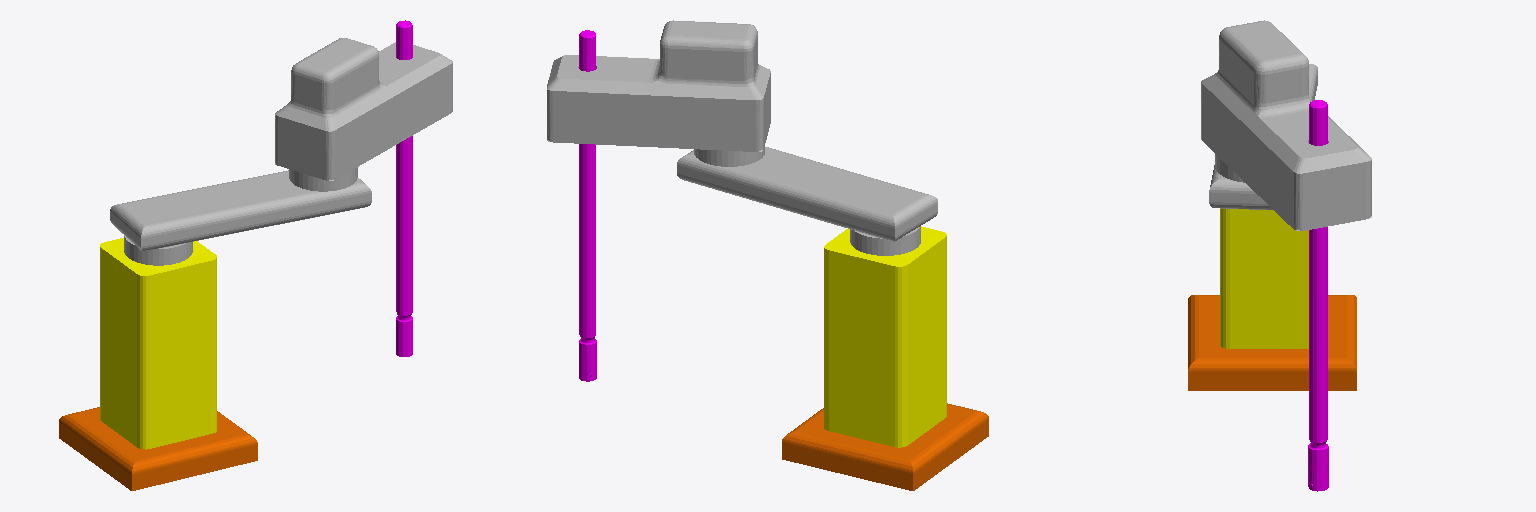
URDF robot description (scara_urdf):
<?xml version="1.0" encoding="utf-8"?>
<!-- This URDF was automatically created by SolidWorks to URDF Exporter! Originally created by [author] ([email redacted]) 
     Commit Version: 1.6.0-4-g7f85cfe  Build Version: 1.6.7995.38578
     For more information, please see http://wiki.ros.org/sw_urdf_exporter -->
<robot
  name="scara_urdf">
  <link
    name="base">
    <inertial>
      <origin
        xyz="1.1102E-16 1.1102E-16 0.016963"
        rpy="0 0 0" />
      <mass
        value="0.81356" />
      <inertia
        ixx="0.0017034"
        ixy="2.3161E-20"
        ixz="-7.2992E-19"
        iyy="0.0017034"
        iyz="1.1526E-18"
        izz="0.0031874" />
    </inertial>
    <visual>
      <origin
        xyz="0 0 0"
        rpy="0 0 0" />
      <geometry>
        <mesh
          filename="package://scara_urdf/meshes/base.STL" />
      </geometry>
      <material
        name="">
        <color
          rgba="0.9098 0.44314 0.031373 1" />
      </material>
    </visual>
    <collision>
      <origin
        xyz="0 0 0"
        rpy="0 0 0" />
      <geometry>
        <mesh
          filename="package://scara_urdf/meshes/base.STL" />
      </geometry>
    </collision>
  </link>
  <link
    name="M1">
    <inertial>
      <origin
        xyz="-1.1102E-16 1.1102E-16 0.075"
        rpy="0 0 0" />
      <mass
        value="1.6696" />
      <inertia
        ixx="0.0077803"
        ixy="-2.0605E-34"
        ixz="2.1121E-34"
        iyy="0.0077803"
        iyz="-5.294E-21"
        izz="0.0032888" />
    </inertial>
    <visual>
      <origin
        xyz="0 0 0"
        rpy="0 0 0" />
      <geometry>
        <mesh
          filename="package://scara_urdf/meshes/M1.STL" />
      </geometry>
      <material
        name="">
        <color
          rgba="1 1 0 1" />
      </material>
    </visual>
    <collision>
      <origin
        xyz="0 0 0"
        rpy="0 0 0" />
      <geometry>
        <mesh
          filename="package://scara_urdf/meshes/M1.STL" />
      </geometry>
    </collision>
  </link>
  <joint
    name="Joint1"
    type="continuous">
    <origin
      xyz="0 0 0.06"
      rpy="0 0 0" />
    <parent
      link="base" />
    <child
      link="M1" />
    <axis
      xyz="0 0 -1" />
  </joint>
  <link
    name="M2">
    <inertial>
      <origin
        xyz="0.081749 -0.0069094 0.030511"
        rpy="0 0 0" />
      <mass
        value="0.71062" />
      <inertia
        ixx="0.00039441"
        ixy="0.00026417"
        ixz="1.5922E-06"
        iyy="0.0034975"
        iyz="-1.3456E-07"
        izz="0.0038467" />
    </inertial>
    <visual>
      <origin
        xyz="0 0 0"
        rpy="0 0 0" />
      <geometry>
        <mesh
          filename="package://scara_urdf/meshes/M2.STL" />
      </geometry>
      <material
        name="">
        <color
          rgba="0.75294 0.75294 0.75294 1" />
      </material>
    </visual>
    <collision>
      <origin
        xyz="0 0 0"
        rpy="0 0 0" />
      <geometry>
        <mesh
          filename="package://scara_urdf/meshes/M2.STL" />
      </geometry>
    </collision>
  </link>
  <joint
    name="Joint2"
    type="continuous">
    <origin
      xyz="0 0 0.18"
      rpy="0 0 0" />
    <parent
      link="M1" />
    <child
      link="M2" />
    <axis
      xyz="0 0 1" />
    <limit
      lower="0"
      upper="0"
      effort="0"
      velocity="0" />
  </joint>
  <link
    name="M3">
    <inertial>
      <origin
        xyz="0.047629 0.020812 0.072612"
        rpy="0 0 0" />
      <mass
        value="0.99972" />
      <inertia
        ixx="0.0017827"
        ixy="-0.001154"
        ixz="0.00043198"
        iyy="0.0039194"
        iyz="0.00018876"
        izz="0.0042708" />
    </inertial>
    <visual>
      <origin
        xyz="0 0 0"
        rpy="0 0 0" />
      <geometry>
        <mesh
          filename="package://scara_urdf/meshes/M3.STL" />
      </geometry>
      <material
        name="">
        <color
          rgba="0.75294 0.75294 0.75294 1" />
      </material>
    </visual>
    <collision>
      <origin
        xyz="0 0 0"
        rpy="0 0 0" />
      <geometry>
        <mesh
          filename="package://scara_urdf/meshes/M3.STL" />
      </geometry>
    </collision>
  </link>
  <joint
    name="Joint3"
    type="continuous">
    <origin
      xyz="0.19929 -0.016844 0.0425"
      rpy="0 0 0" />
    <parent
      link="M2" />
    <child
      link="M3" />
    <axis
      xyz="0 0 -1" />
    <limit
      lower="0"
      upper="0"
      effort="0"
      velocity="0" />
  </joint>
  <link
    name="M4R">
    <inertial>
      <origin
        xyz="1.4784E-10 -1.9373E-10 0.15749"
        rpy="0 0 0" />
      <mass
        value="0.10305" />
      <inertia
        ixx="0.0014027"
        ixy="9.2614E-10"
        ixz="-2.3549E-12"
        iyy="0.0014027"
        iyz="3.0832E-12"
        izz="4.2483E-06" />
    </inertial>
    <visual>
      <origin
        xyz="0 0 0"
        rpy="0 0 0" />
      <geometry>
        <mesh
          filename="package://scara_urdf/meshes/M4R.STL" />
      </geometry>
      <material
        name="">
        <color
          rgba="1 0 1 1" />
      </material>
    </visual>
    <collision>
      <origin
        xyz="0 0 0"
        rpy="0 0 0" />
      <geometry>
        <mesh
          filename="package://scara_urdf/meshes/M4R.STL" />
      </geometry>
    </collision>
  </link>
  <joint
    name="Joint4Rotate"
    type="continuous">
    <origin
      xyz="0.13745 0.060061 0.0925"
      rpy="3.1416 0 0" />
    <parent
      link="M3" />
    <child
      link="M4R" />
    <axis
      xyz="0 0 -1" />
  </joint>
  <link
    name="M4L">
    <inertial>
      <origin
        xyz="1.4784E-10 -1.9373E-10 0.15749"
        rpy="0 0 0" />
      <mass
        value="0.10305" />
      <inertia
        ixx="0.0014027"
        ixy="9.2614E-10"
        ixz="-2.3549E-12"
        iyy="0.0014027"
        iyz="3.0832E-12"
        izz="4.2483E-06" />
    </inertial>
    <visual>
      <origin
        xyz="0 0 0"
        rpy="0 0 0" />
      <geometry>
        <mesh
          filename="package://scara_urdf/meshes/M4L.STL" />
      </geometry>
      <material
        name="">
        <color
          rgba="1 0 1 1" />
      </material>
    </visual>
    <collision>
      <origin
        xyz="0 0 0"
        rpy="0 0 0" />
      <geometry>
        <mesh
          filename="package://scara_urdf/meshes/M4L.STL" />
      </geometry>
    </collision>
  </link>
  <joint
    name="Joint4Linear"
    type="prismatic">
    <origin
      xyz="0.13745 0.060061 0.0925"
      rpy="3.1416 0 0" />
    <parent
      link="M3" />
    <child
      link="M4L" />
    <axis
      xyz="0 0 -1" />
    <limit
      lower="0"
      upper="0"
      effort="0"
      velocity="0" />
  </joint>
</robot>

--- Facts derived from the render (not from the file) ---
The picture shows the robot from 3 angles, left to right: view 1: azimuth 30°, elevation 25°; view 2: azimuth 150°, elevation 25°; view 3: azimuth 270°, elevation 25°; orthographic projection.
Model scara_urdf with 6 links and 5 joints (4 continuous, 1 prismatic), rooted at base, posed all joints at 0.
Visible links, largest first — view 1: M1, M3, M2, base, M4L; view 2: M3, M1, M2, base, M4L; view 3: M3, M1, base, M4L, M2.
Boxes of the visible links, box(x1,y1,x2,y2) form: M1: box(100, 238, 216, 449); M3: box(275, 38, 452, 191); M2: box(110, 170, 371, 265); base: box(59, 407, 257, 490); M4L: box(396, 20, 412, 356); M3: box(547, 20, 770, 166); M1: box(824, 226, 946, 447); M2: box(677, 147, 937, 255); base: box(782, 403, 988, 490); M4L: box(579, 30, 596, 381); M3: box(1201, 20, 1371, 230); M1: box(1220, 208, 1308, 348); base: box(1188, 295, 1356, 390); M4L: box(1308, 100, 1328, 491); M2: box(1209, 64, 1317, 209).
Size in the robot's own frame: 0.4673 by 0.1738 by 0.43 metres.
5 mesh visuals loaded from 6 distinct referenced files (5 binary STL); not drawn: 1 (reference not matched to a file when rendering).